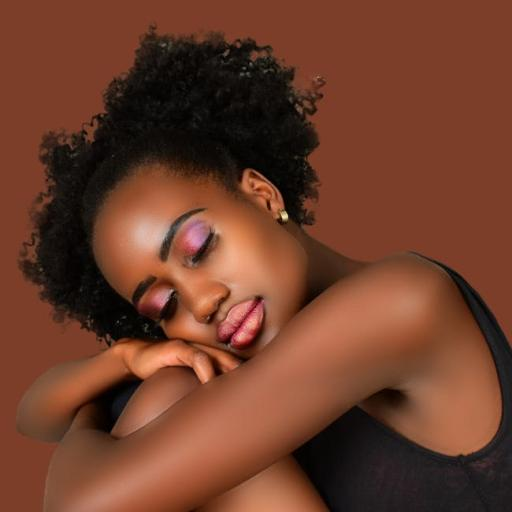lipstick: (218, 299, 263, 348)
